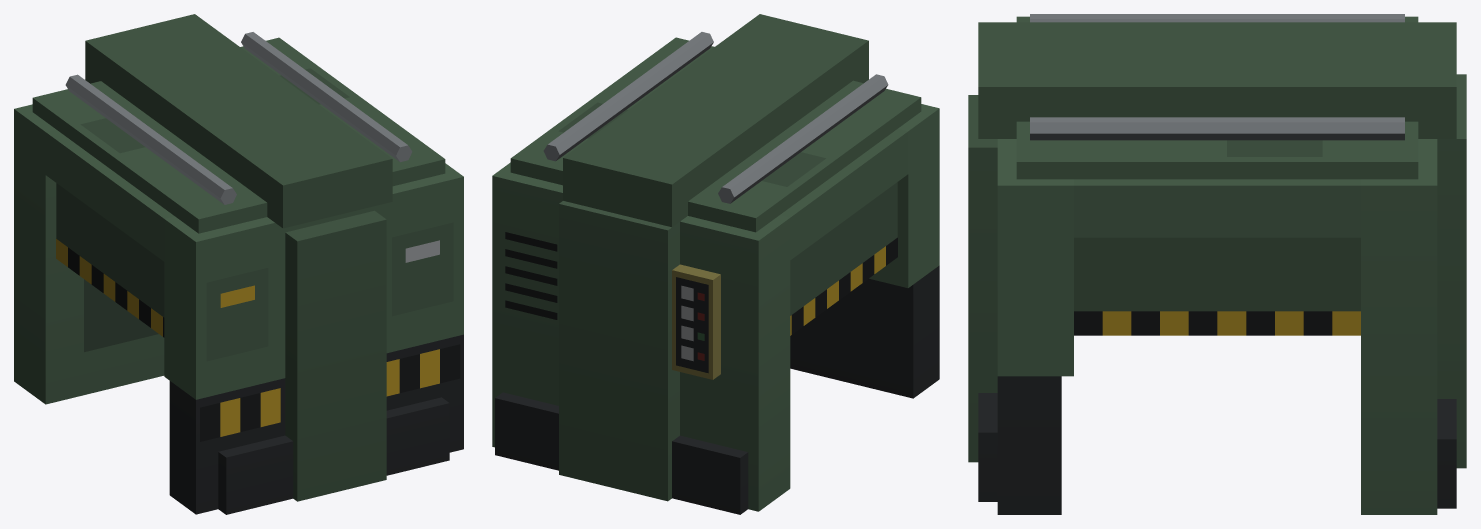
The model's file is machine.heavy.green.glb.
3 renders of one model, left to right at view 1: azimuth 30°, elevation 25°; view 2: azimuth 150°, elevation 25°; view 3: azimuth 270°, elevation 25°, orthographic. The views are drawn at different scales.
Visible parts, largest first — view 1: machine_heavy_green; view 2: machine_heavy_green; view 3: machine_heavy_green.
Boxes of the visible parts, left/top/right/bottom form: machine_heavy_green: left=14, top=14, right=463, bottom=514; machine_heavy_green: left=492, top=14, right=939, bottom=514; machine_heavy_green: left=968, top=14, right=1466, bottom=514.
Size of what is drawn, in the model's own units: 1.96 by 2.2 by 2.61.
